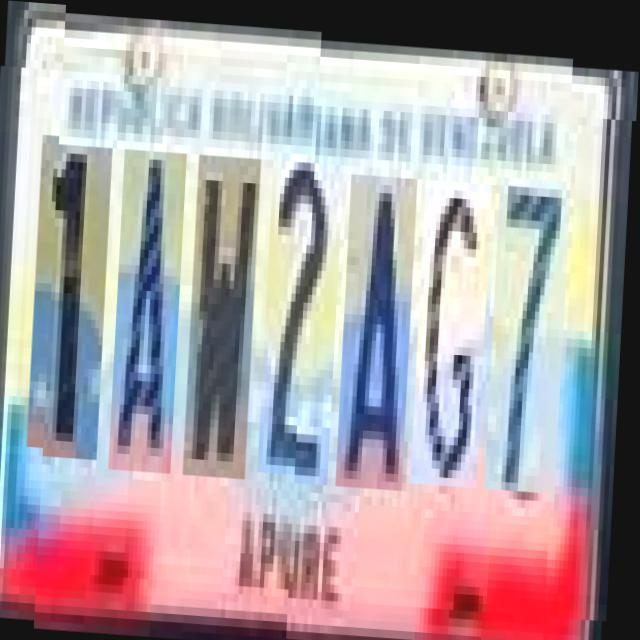1: (31, 142, 114, 458)
2: (262, 148, 346, 472)
7: (490, 160, 573, 477)
A: (341, 160, 420, 477), (114, 147, 188, 471)
G: (416, 165, 494, 472)
W: (188, 152, 263, 476)
